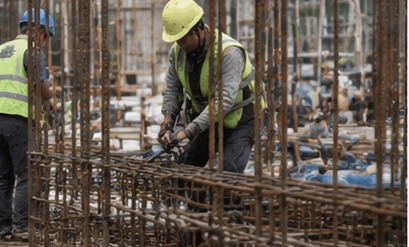helmet: (160, 14, 218, 47)
person: (151, 18, 245, 236), (0, 20, 64, 205)
vest: (151, 62, 225, 155)
